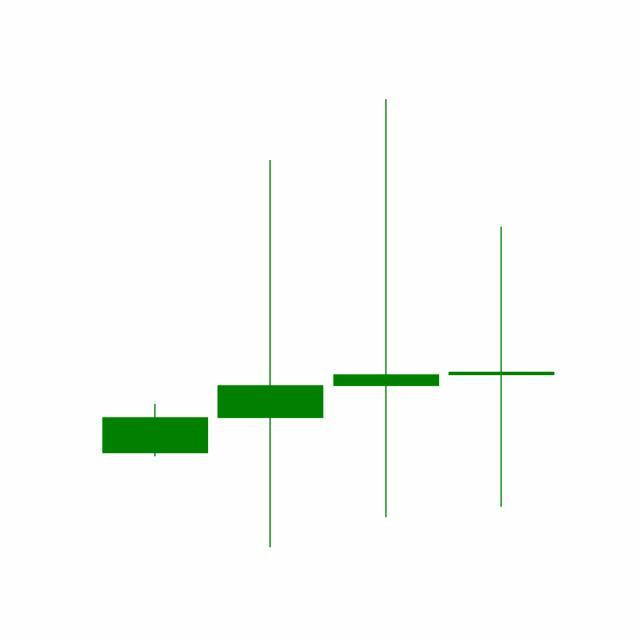Spinning Top: (444, 223, 560, 511)
